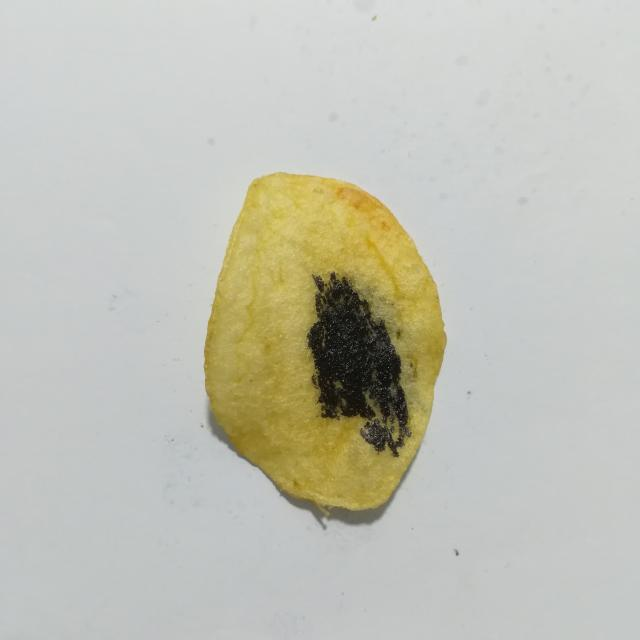chip: (204, 172, 446, 512)
damaged: (307, 272, 411, 457)
semi-damaged: (355, 281, 418, 420)
